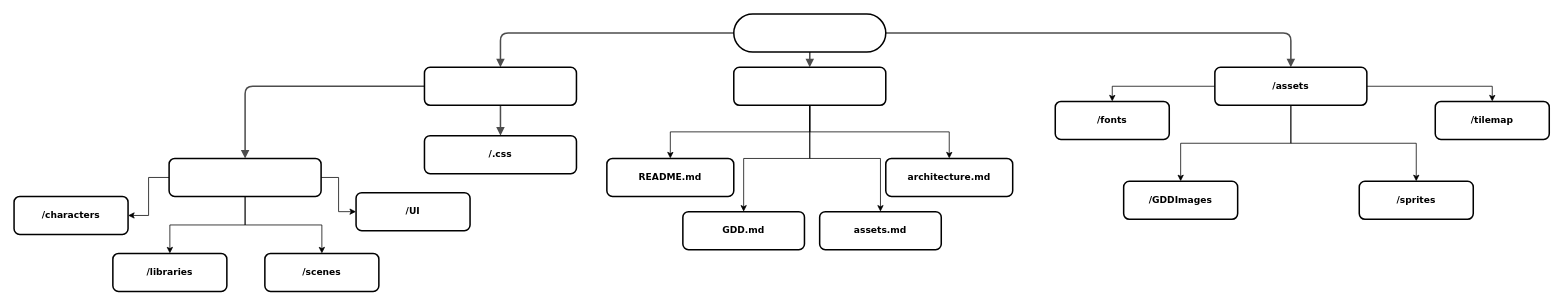
This 1563x305 diagram has some shape labels left out. The shapes that lost their labels are listed below. From the top down, each one's centre as x and y in pixels, then its label:
[809,32]: Paper-Lunch
[500,86]: /src
[809,86]: .md
[244,177]: /.js
